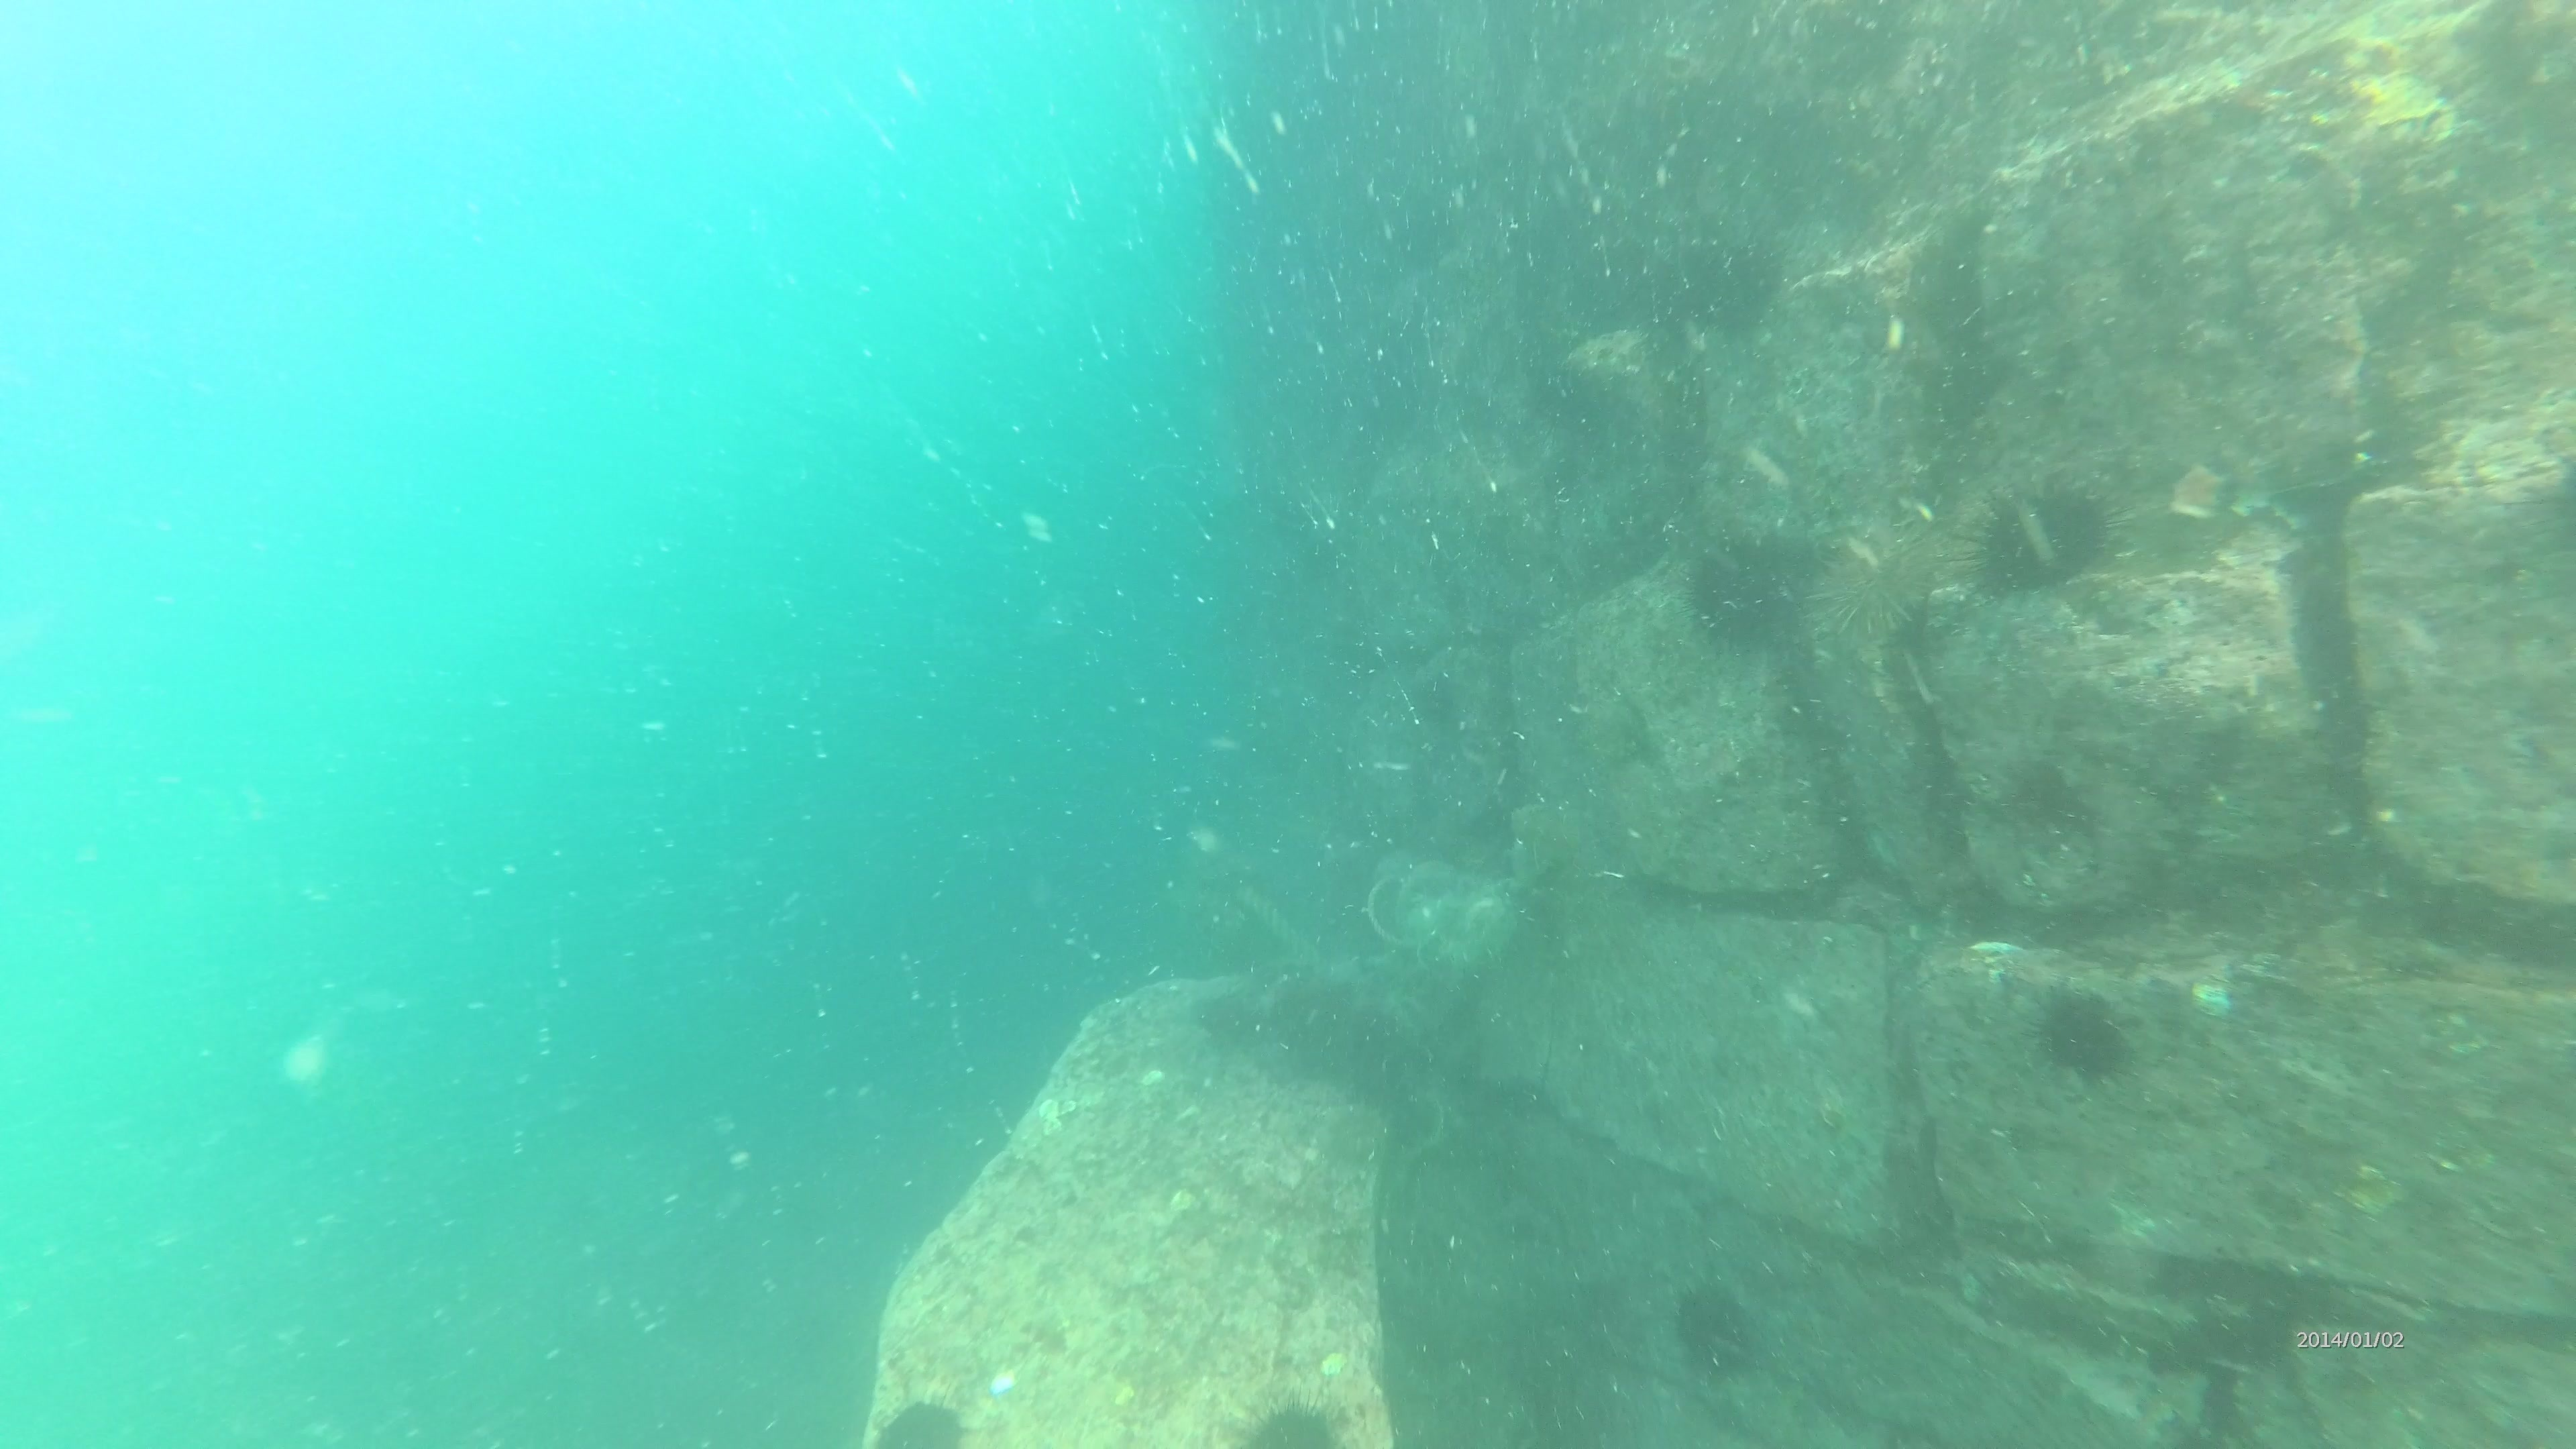echinus: (1964, 471, 2123, 603), (1803, 524, 1944, 656), (1660, 218, 1790, 343), (1677, 534, 1799, 658), (2024, 980, 2141, 1090), (1663, 1272, 1767, 1384), (1226, 1382, 1362, 1445), (872, 1385, 975, 1449)
